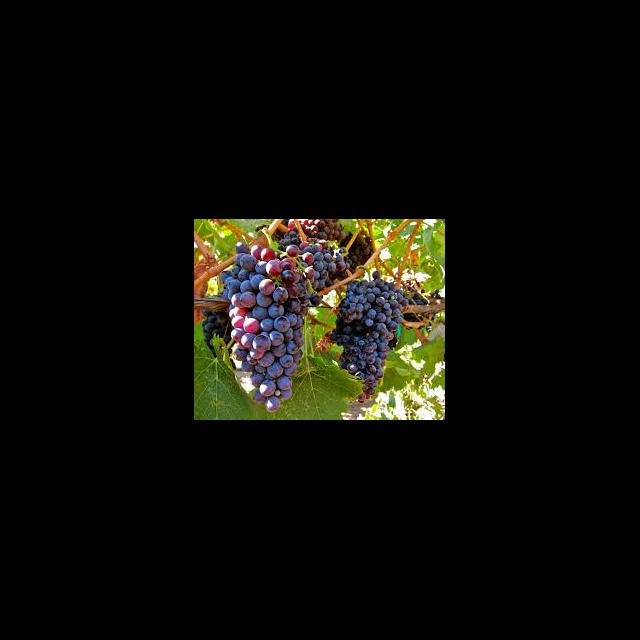grape: (329, 271, 428, 404)
